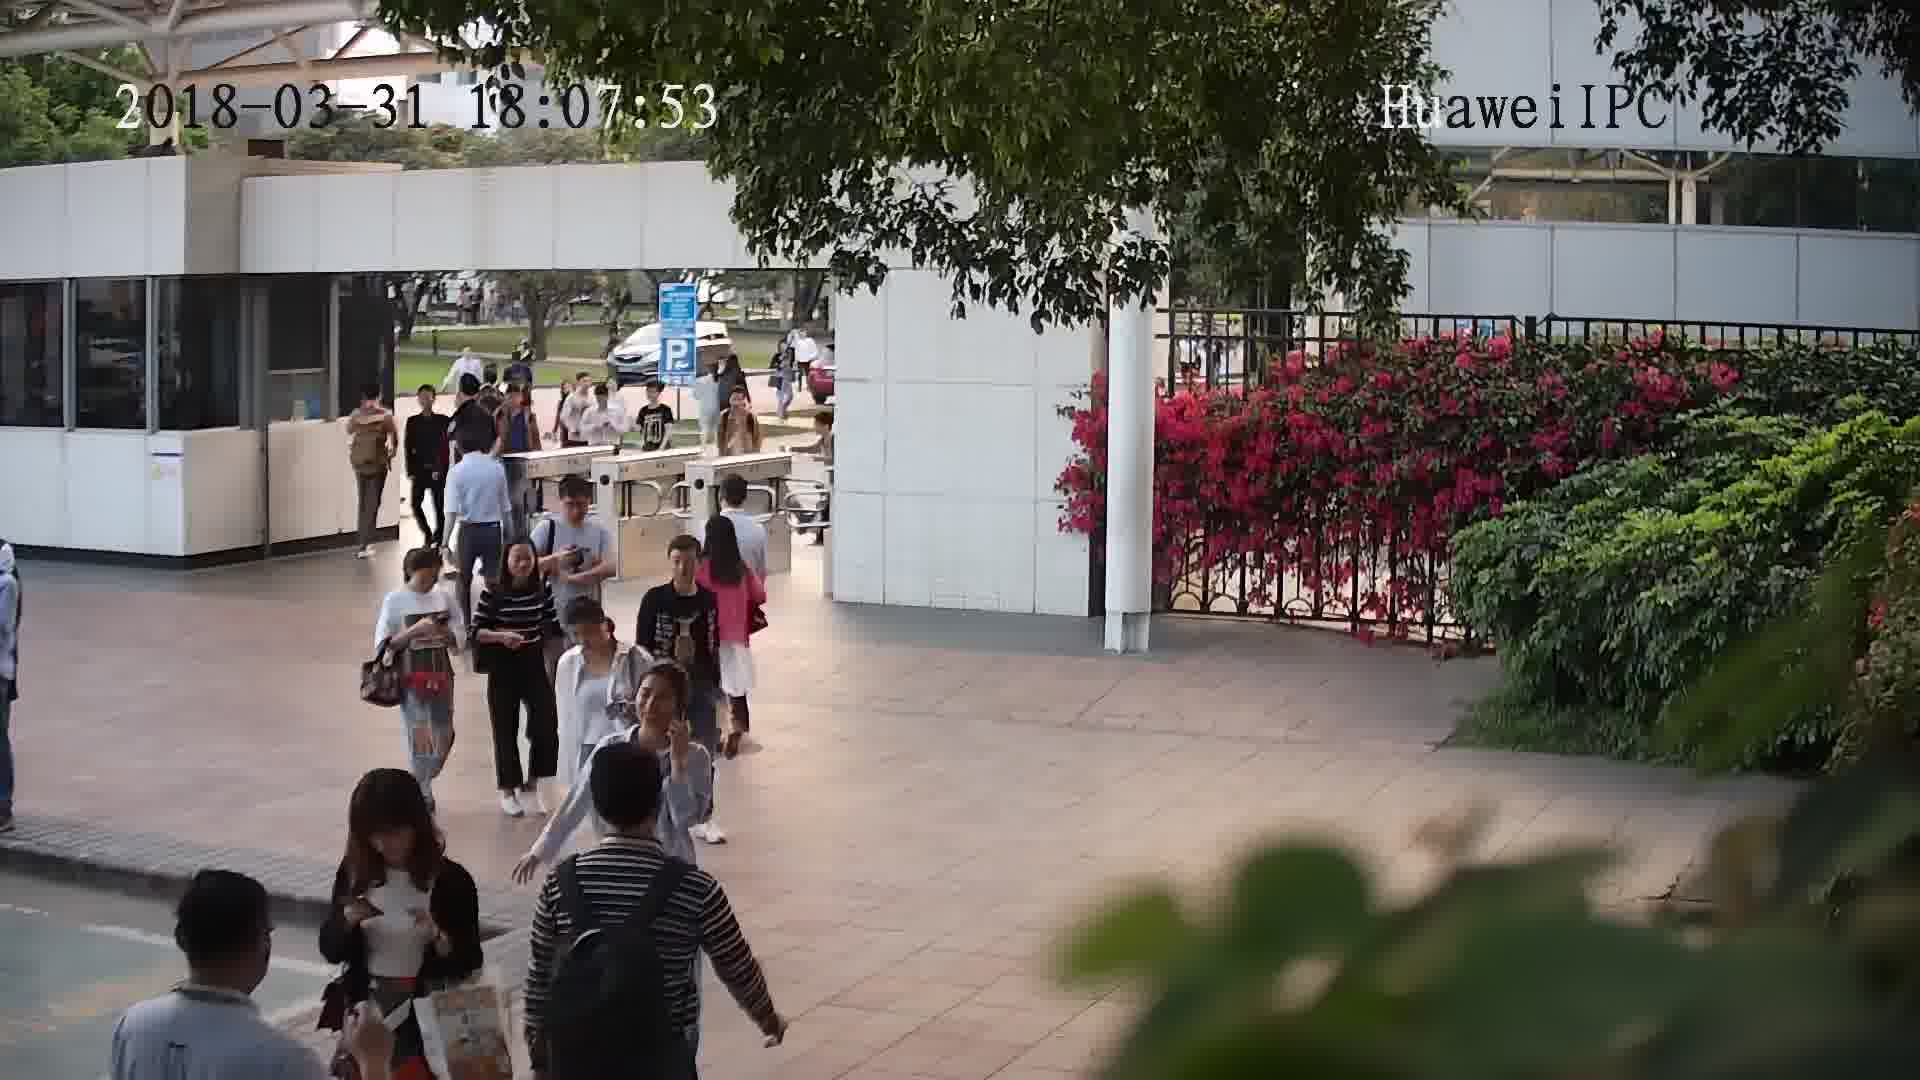face: (628, 670, 682, 724)
person: (110, 864, 323, 1071), (550, 744, 711, 903), (335, 765, 480, 913), (596, 666, 706, 781), (557, 598, 639, 683), (641, 533, 716, 614), (478, 534, 555, 609), (382, 538, 459, 613), (530, 472, 611, 542), (703, 515, 763, 589), (710, 472, 767, 538), (450, 419, 506, 482), (404, 379, 449, 431), (343, 379, 393, 425), (716, 382, 764, 430), (497, 375, 538, 426), (579, 378, 622, 423), (638, 376, 678, 421), (561, 371, 599, 407), (448, 345, 487, 375), (692, 360, 725, 391)
